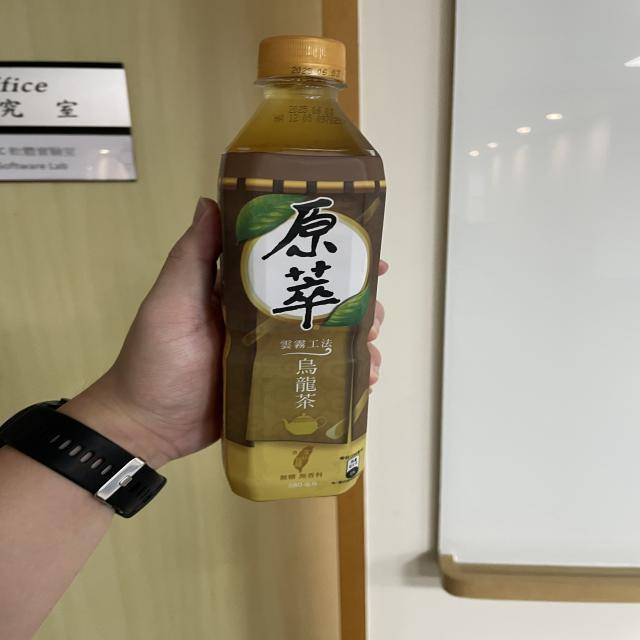RiYue_BlackTea: (200, 27, 402, 513)
